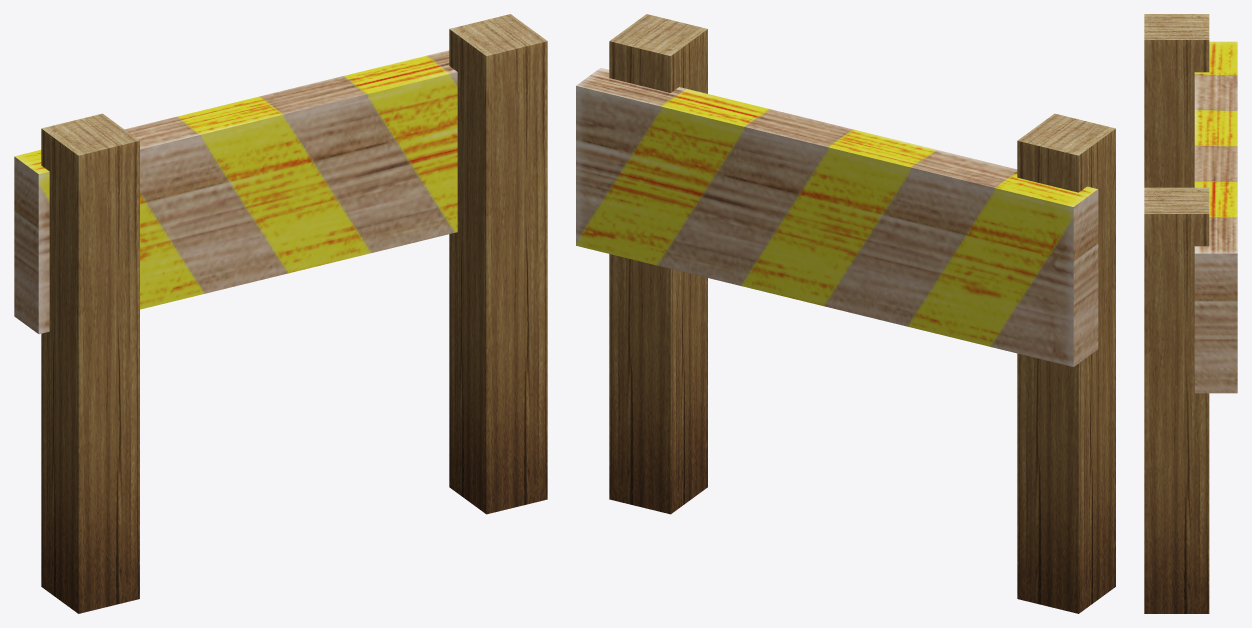
The model's file is Hurdle01.FBX.
3 views of the same model, side by side, from view 1: azimuth 30°, elevation 25°; view 2: azimuth 150°, elevation 25°; view 3: azimuth 270°, elevation 25° (orthographic). The views are drawn at different scales.
Parts seen in each view (by area): view 1: Hurdle01; view 2: Hurdle01; view 3: Hurdle01.
Part boxes in pixels (x1,y1,x2,y2): Hurdle01: [14, 14, 547, 613]; Hurdle01: [576, 14, 1115, 613]; Hurdle01: [1144, 14, 1237, 613].
Size of the model in its own units: 12.7 by 11.18 by 2.36.
